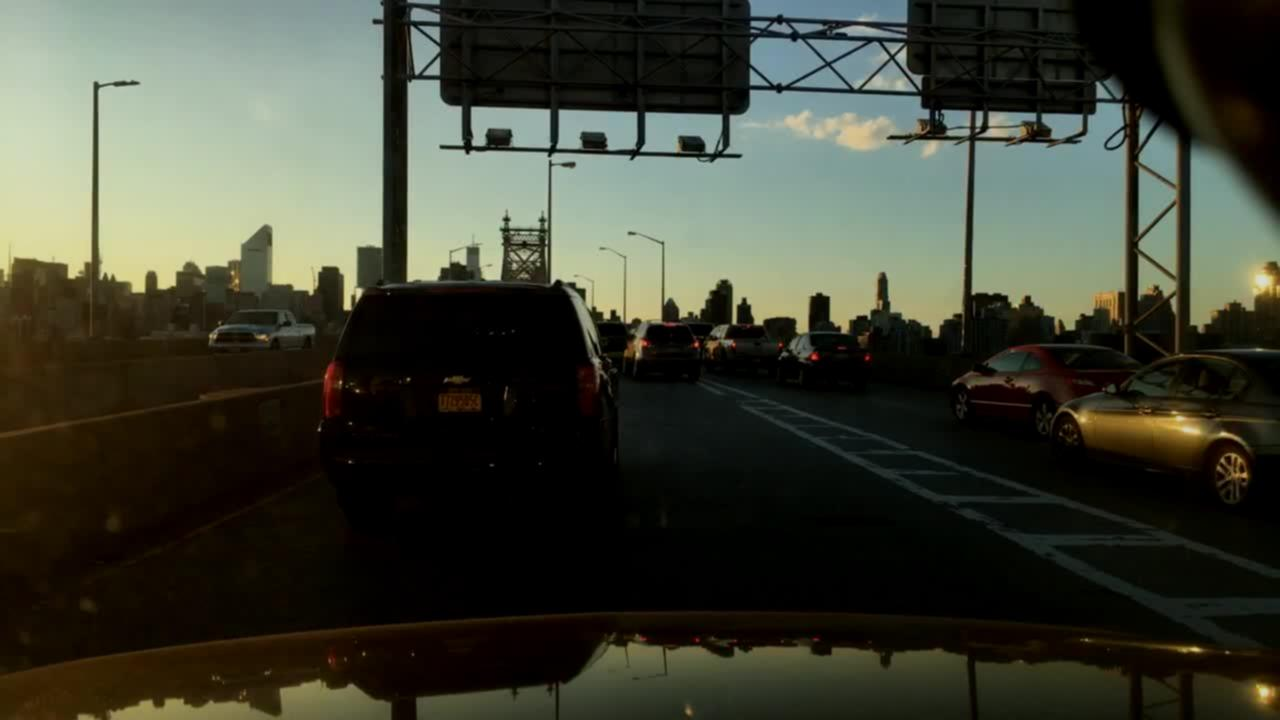chevrolet: (434, 369, 486, 394)
